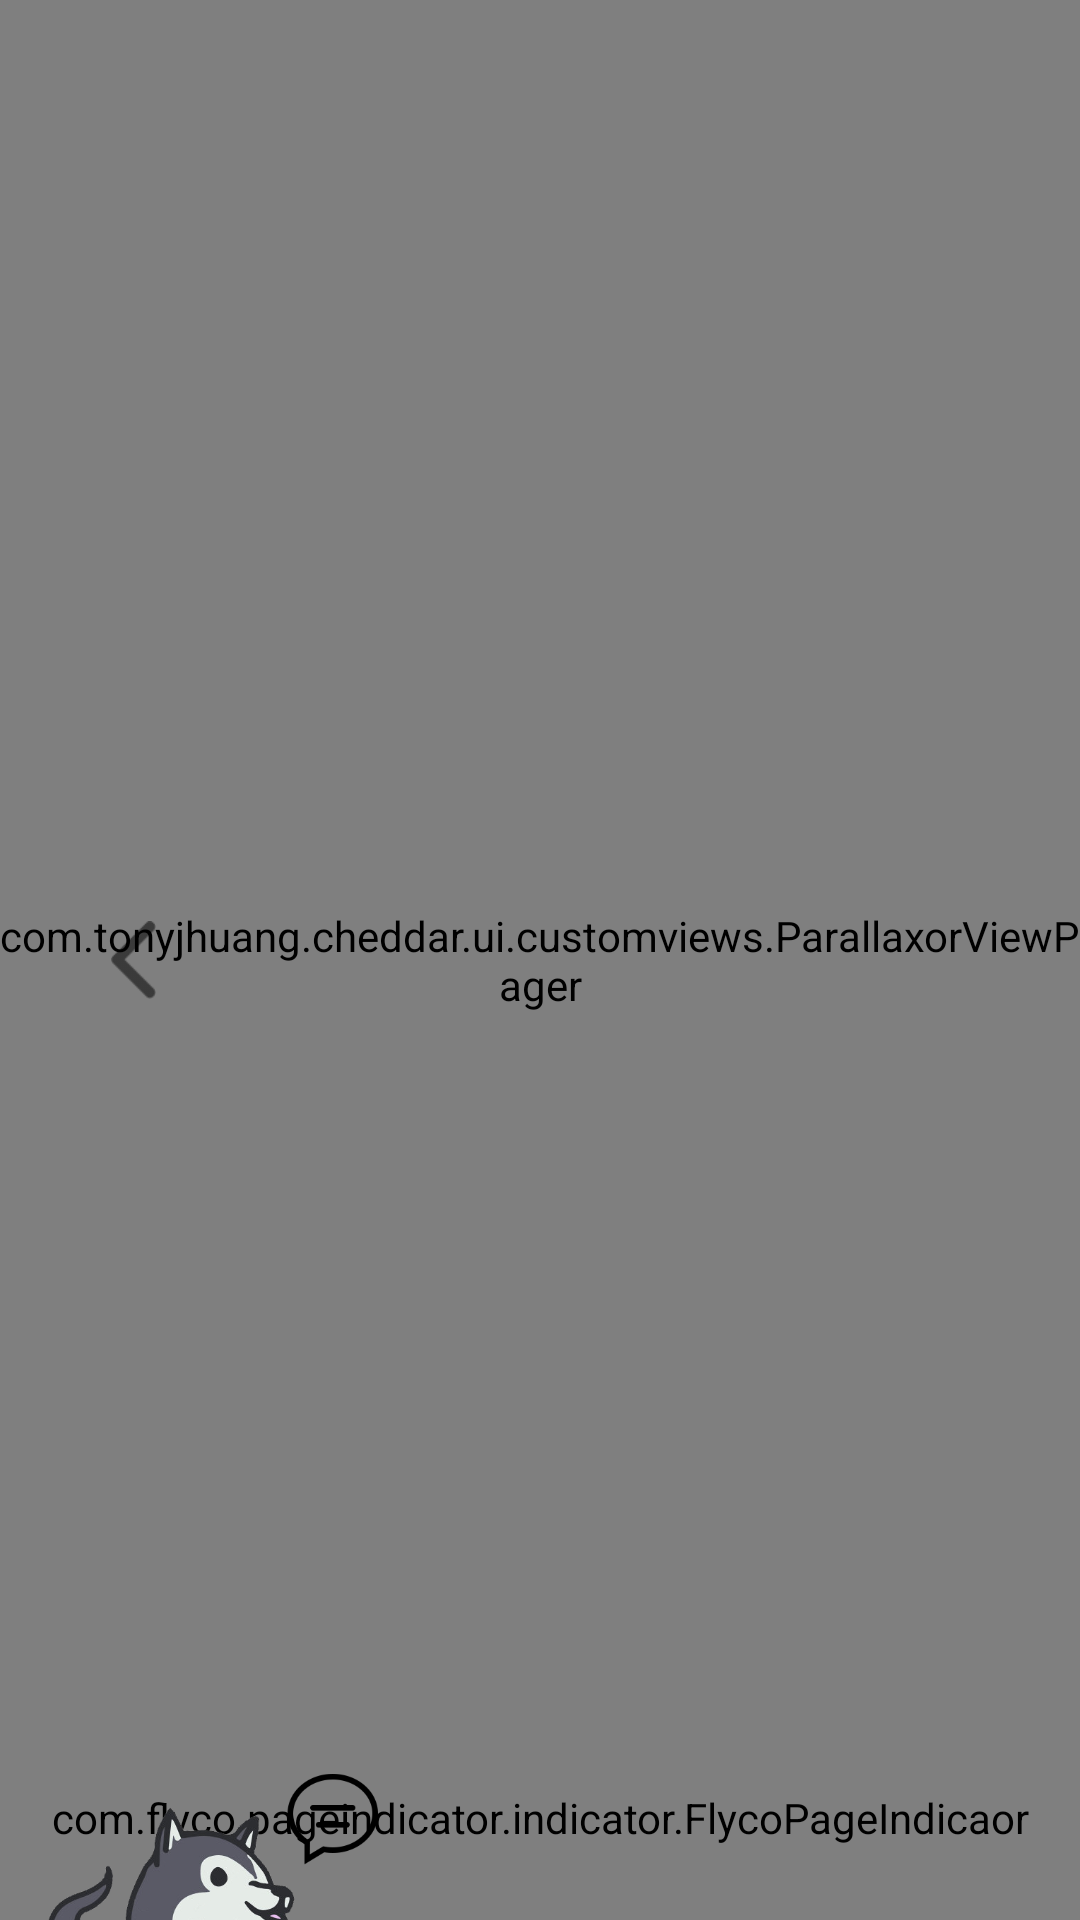

Icon click points for this 1080px x 1920px phone screenshot, format (x,y):
husky talk: (202,1861)
